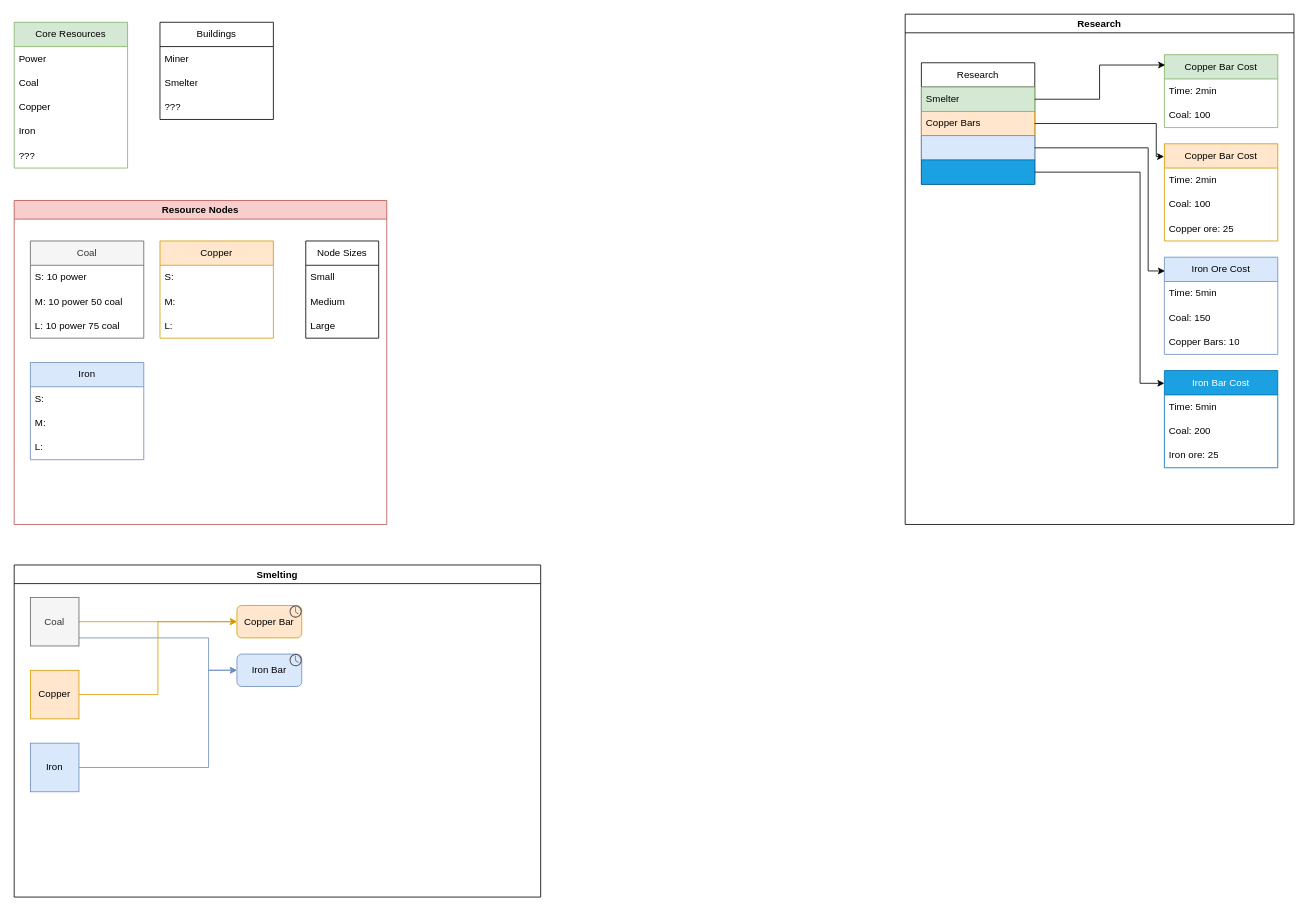
Image size: 1308x911. Some labels were removed from this diagram. Each missing label, with the centre of its shape:
Iron Bars: [978,171]
Iron Ore: [978,147]
